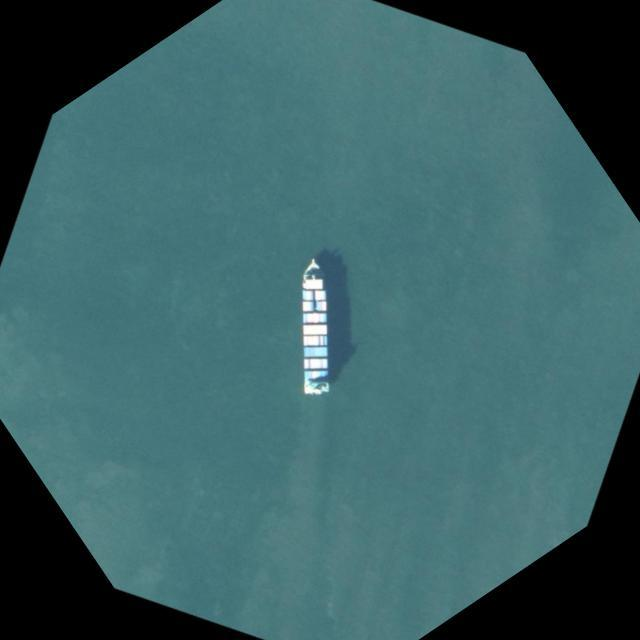ship: (297, 250, 335, 391)
